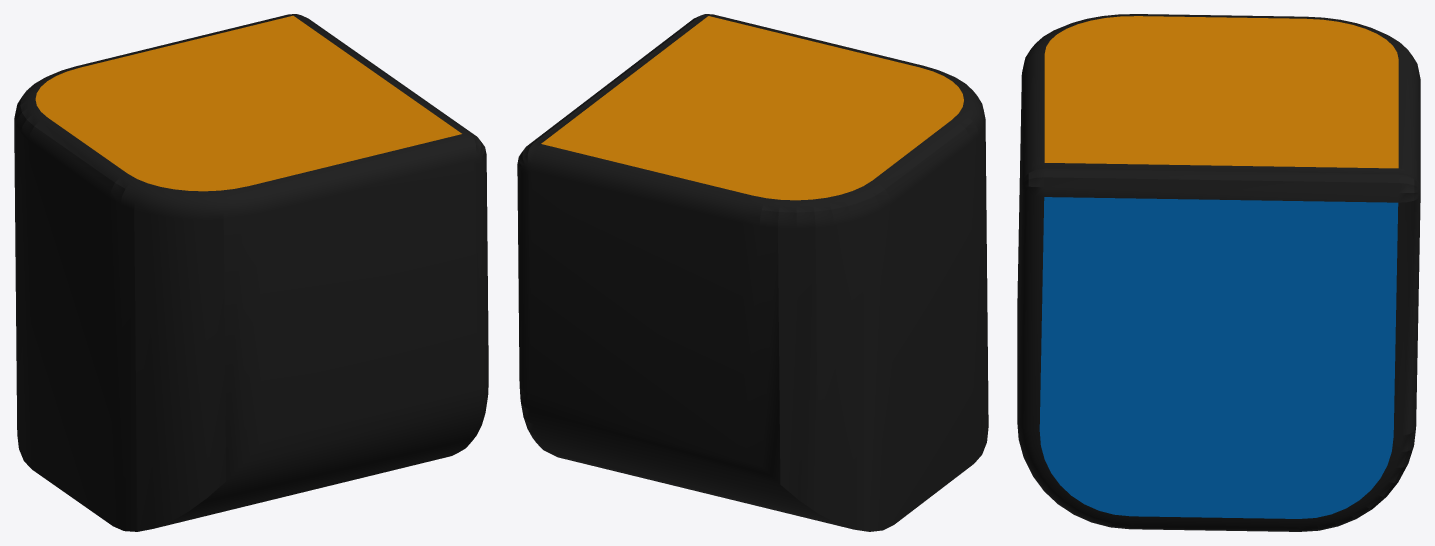
The model's file is edge-cubie.glb.
3 views of the same model, side by side, from view 1: azimuth 30°, elevation 25°; view 2: azimuth 150°, elevation 25°; view 3: azimuth 270°, elevation 25° (orthographic). The views are drawn at different scales.
Visible parts, largest first — view 1: 24_Black_0.001; view 2: 24_Black_0.001; view 3: 24_Black_0.001.
Part boxes in pixels (x1,y1,x2,y2): 24_Black_0.001: (14,14,488,531); 24_Black_0.001: (517,14,988,531); 24_Black_0.001: (1017,14,1420,531).
Size of the model in its own units: 40 by 40.46 by 40.46.
